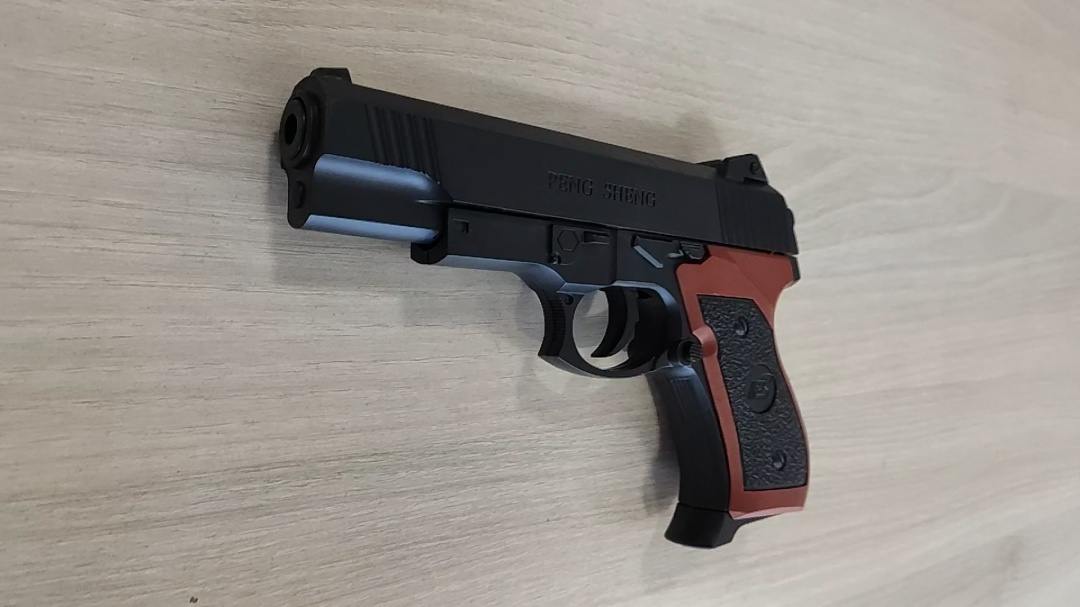gun: (602, 262, 656, 369)
